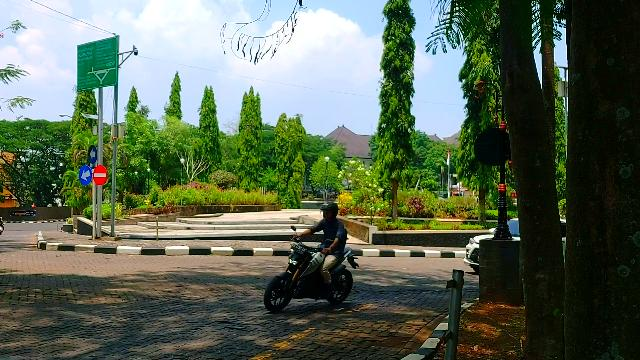helm: (321, 204, 339, 221)
motor: (265, 245, 360, 313)
